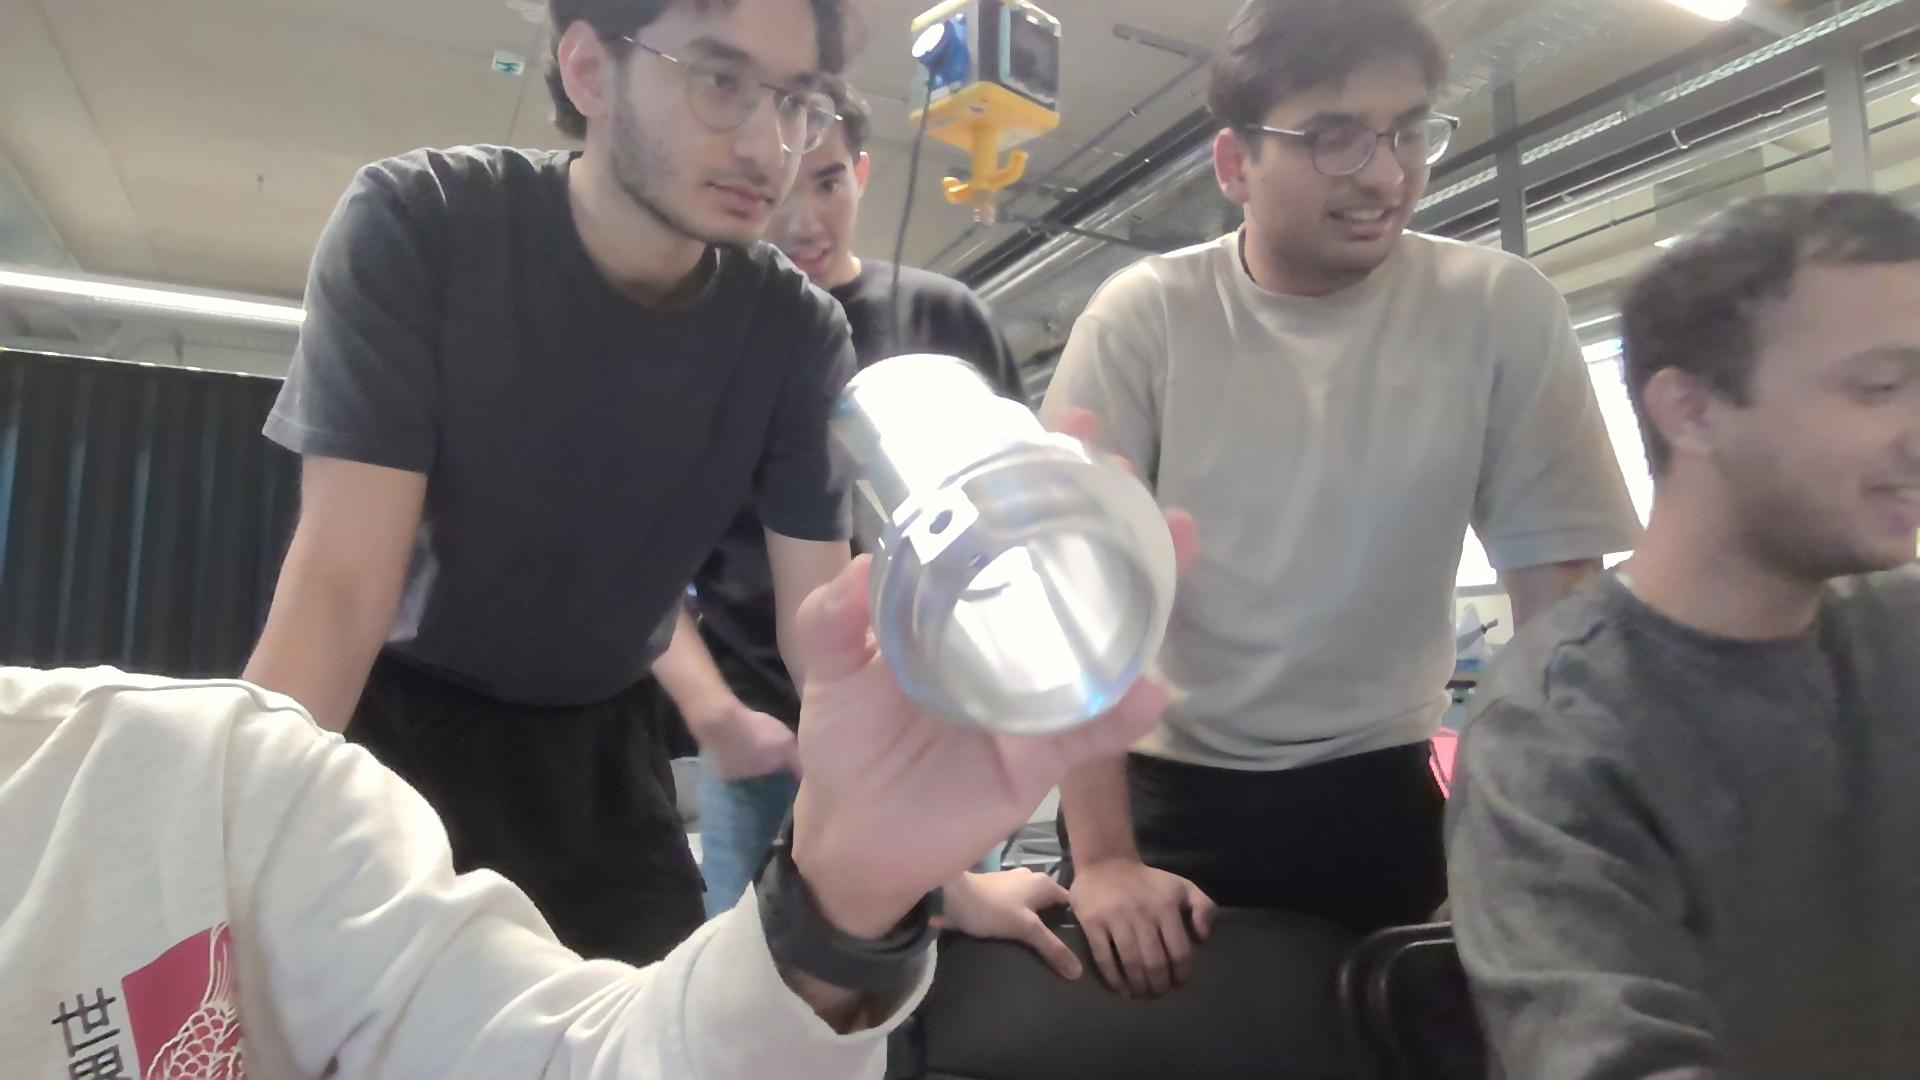objects: (787, 338, 1211, 744)
